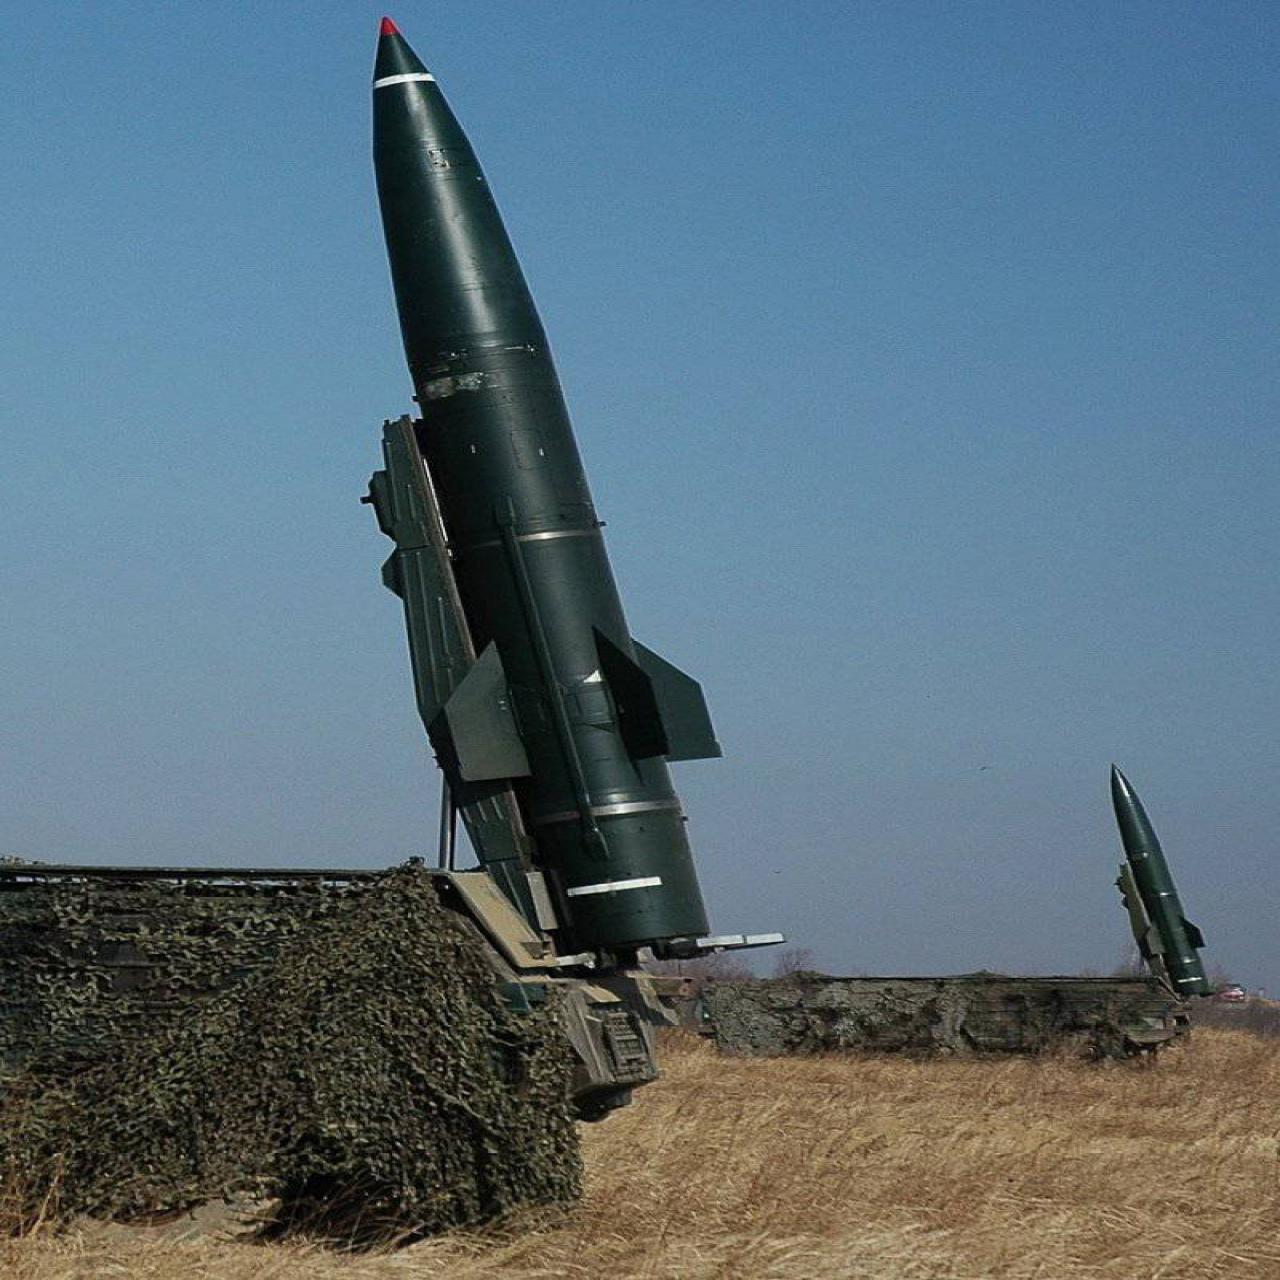MIL_Veh: (0, 14, 721, 1224), (715, 762, 1225, 1056)
